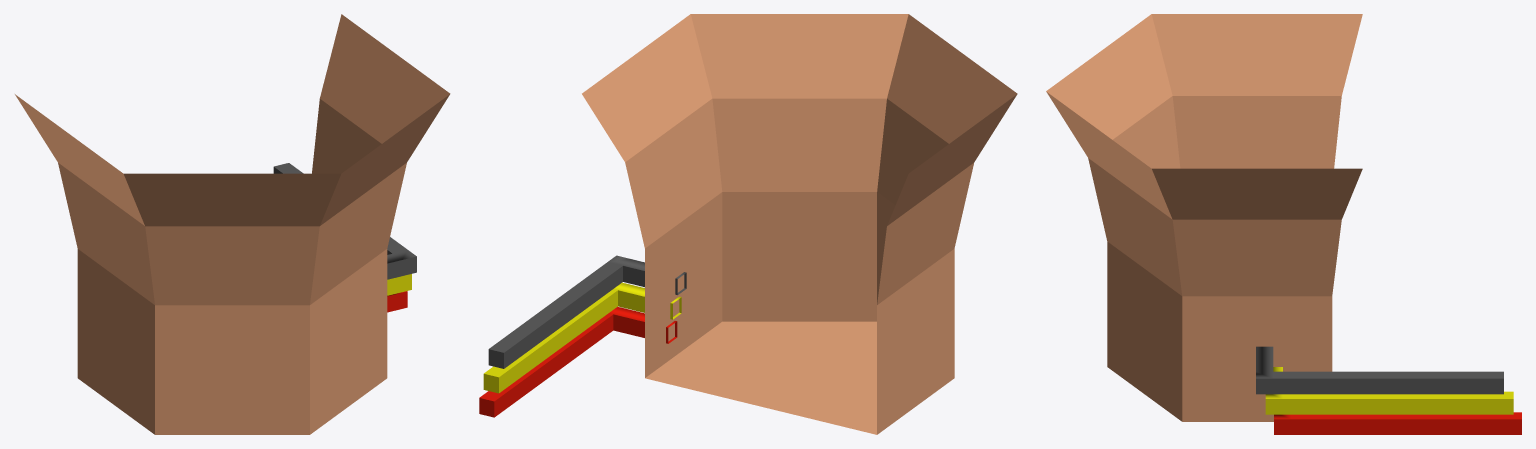
The model's file is torch.glb.
The picture shows the model from 3 angles, left to right: view 1: azimuth 30°, elevation 25°; view 2: azimuth 150°, elevation 25°; view 3: azimuth 270°, elevation 25°; orthographic projection. The views are drawn at different scales.
Visible parts, largest first — view 1: torch body; view 2: torch body; view 3: torch body.
Part boxes in pixels (left/top/right/bottom): torch body: left=15, top=14, right=450, bottom=434; torch body: left=479, top=14, right=1017, bottom=434; torch body: left=1046, top=14, right=1521, bottom=434.
Size of the model in its own units: 2.59 by 2.03 by 3.17.
